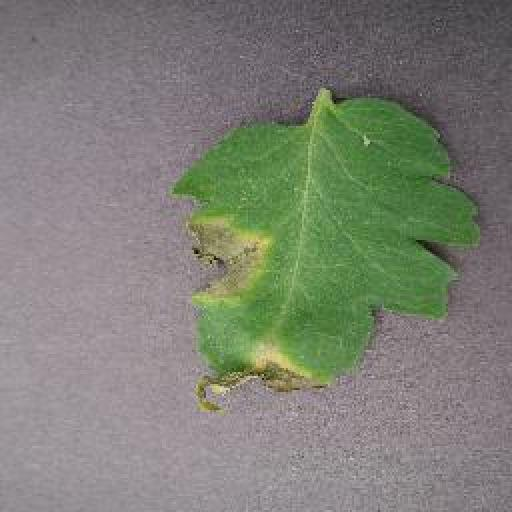disease_tomato: (172, 98, 484, 428)
